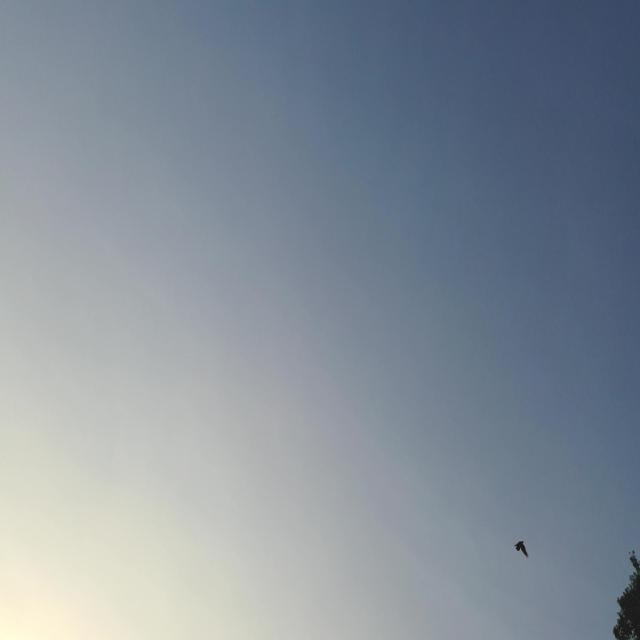Birds: (506, 538, 534, 599)
